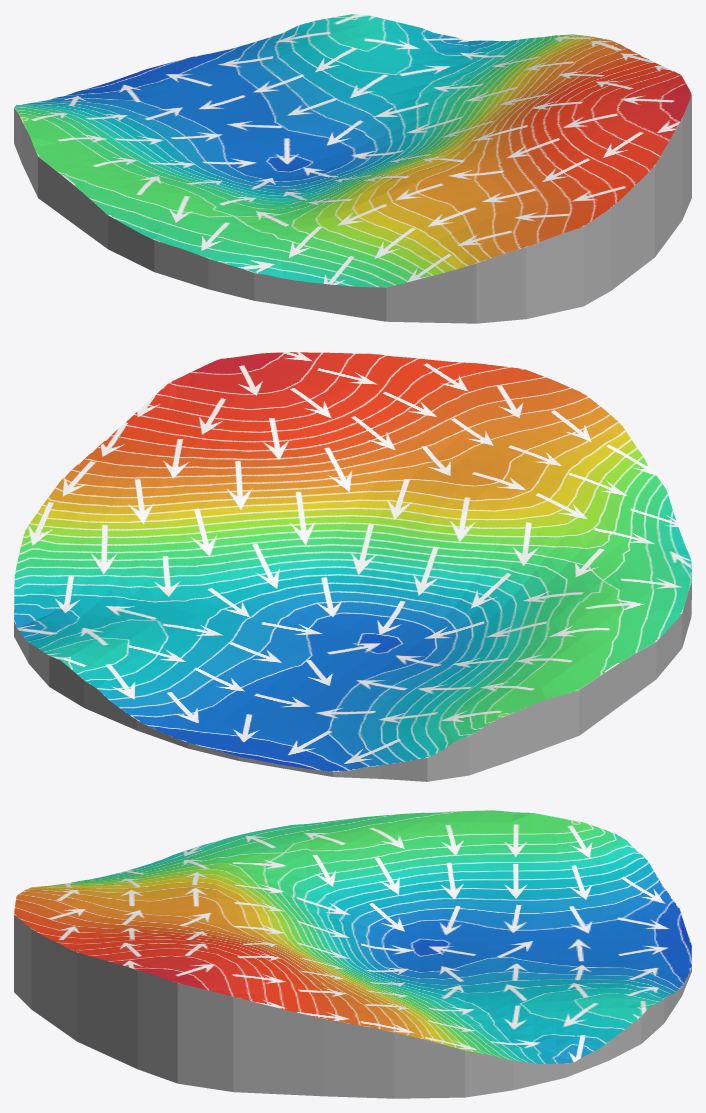
The picture shows the model from 3 angles, top to bottom: view 1: azimuth 30°, elevation 25°; view 2: azimuth 150°, elevation 25°; view 3: azimuth 270°, elevation 25°; orthographic projection. The views are drawn at different scales.
Bounding box in the file's own units: 4.59 × 0.8678 × 5.3.
2 materials, 1 textured.
